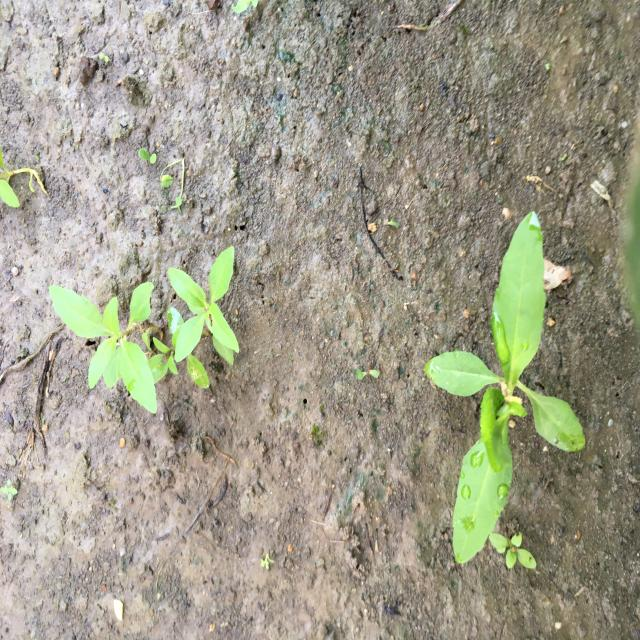Eclipta: (420, 208, 588, 568), (48, 280, 159, 418), (166, 244, 241, 369)
